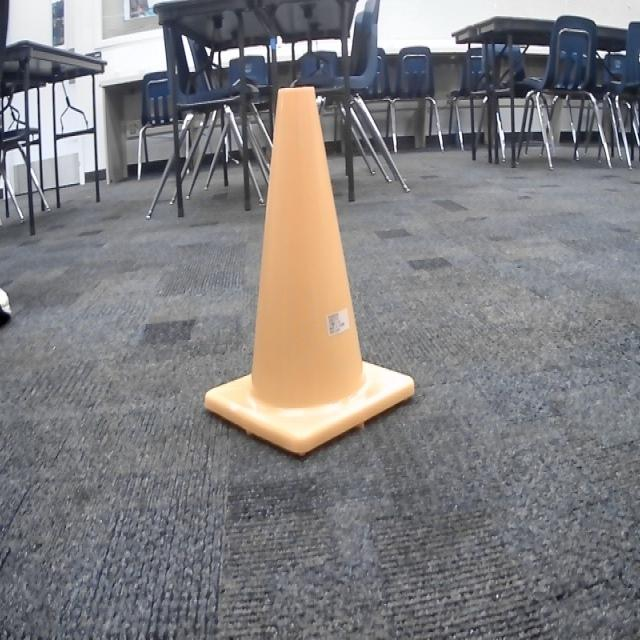cone: (203, 88, 414, 455)
